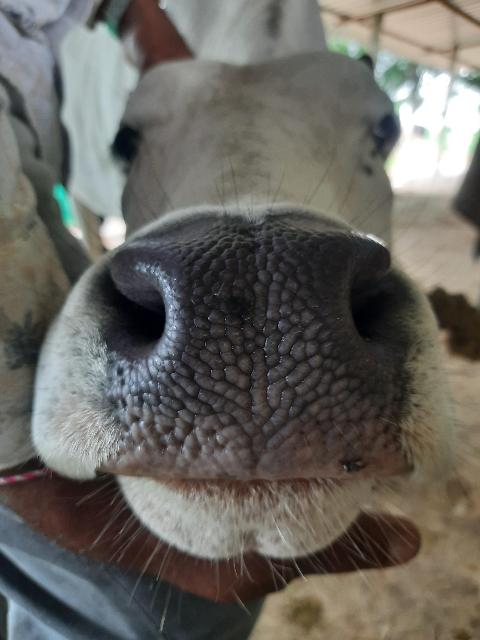Muzzle: (144, 240, 364, 480)
